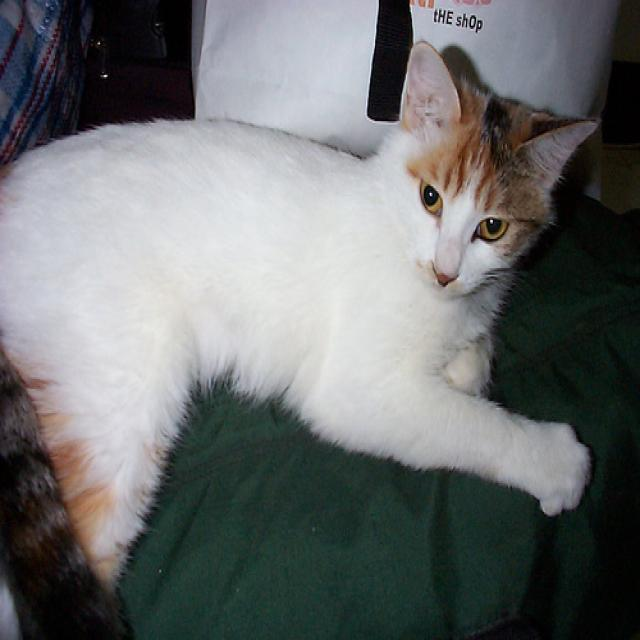cat: (1, 39, 600, 639)
